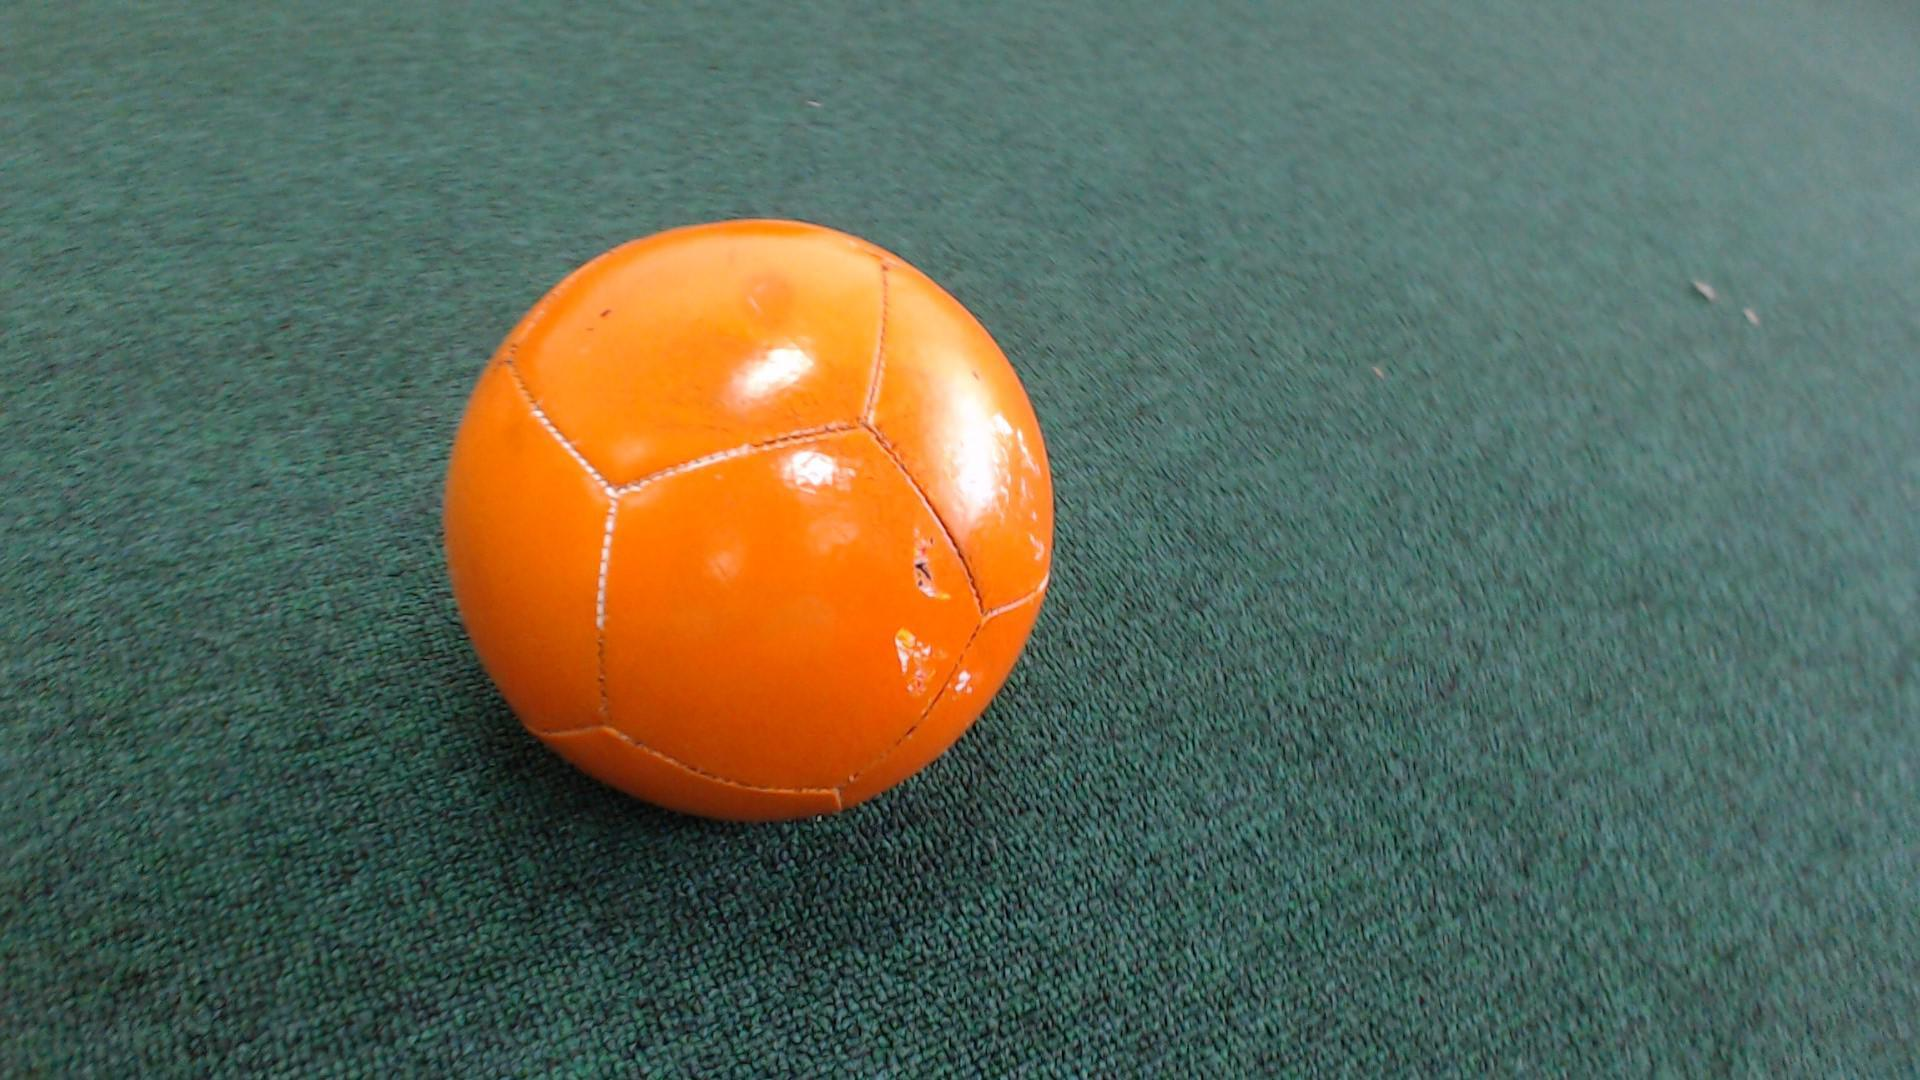bola: (406, 193, 1079, 818)
